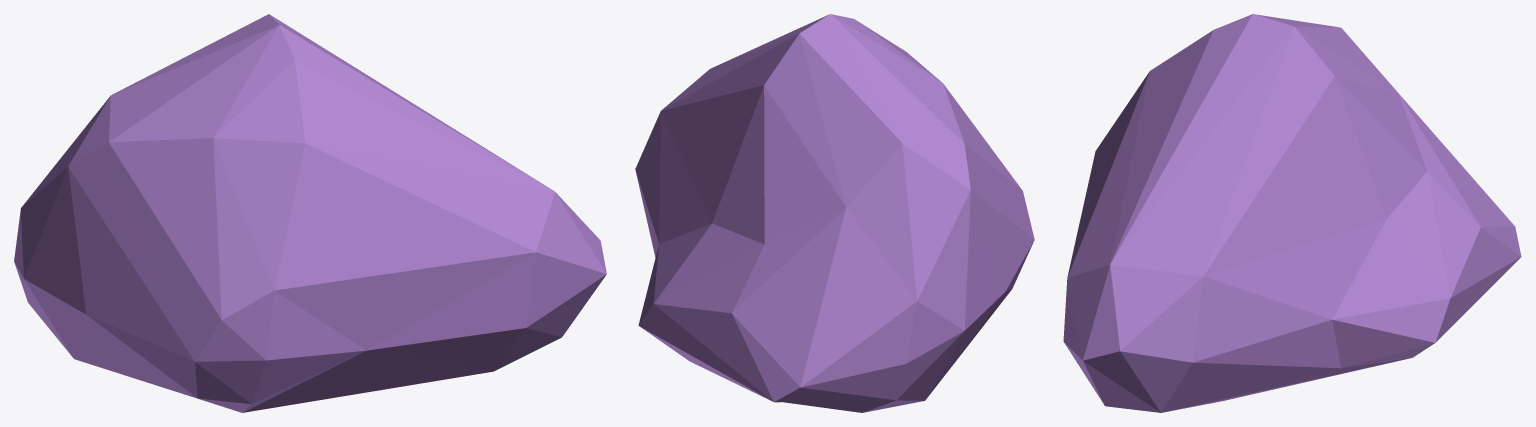
File: boulder2.fbx
3 renders of one model, left to right at view 1: azimuth 30°, elevation 25°; view 2: azimuth 150°, elevation 25°; view 3: azimuth 270°, elevation 25°, orthographic. The views are drawn at different scales.
Parts seen in each view (by area): view 1: boulder1.001; view 2: boulder1.001; view 3: boulder1.001.
Boxes of the visible parts, box(x1,y1,x2,y2) form: boulder1.001: box(14, 14, 606, 412); boulder1.001: box(635, 14, 1034, 412); boulder1.001: box(1063, 14, 1521, 412).
Size of the model in its own units: 784 by 589 by 715.
